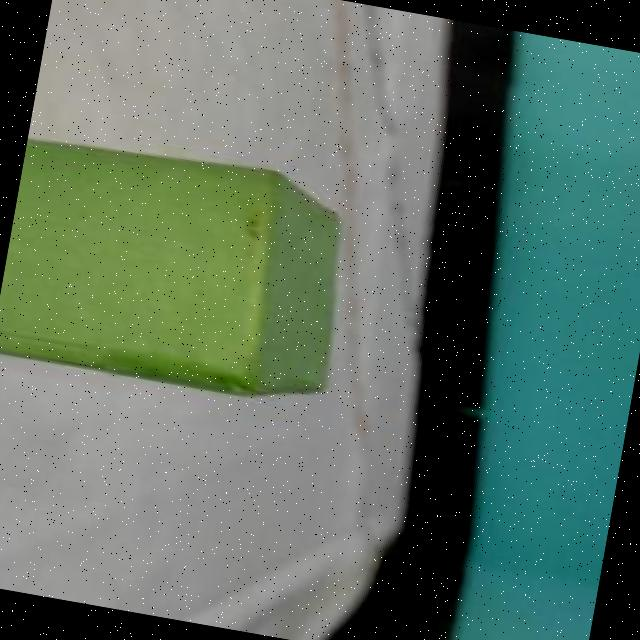greenbox: (0, 121, 363, 413)
